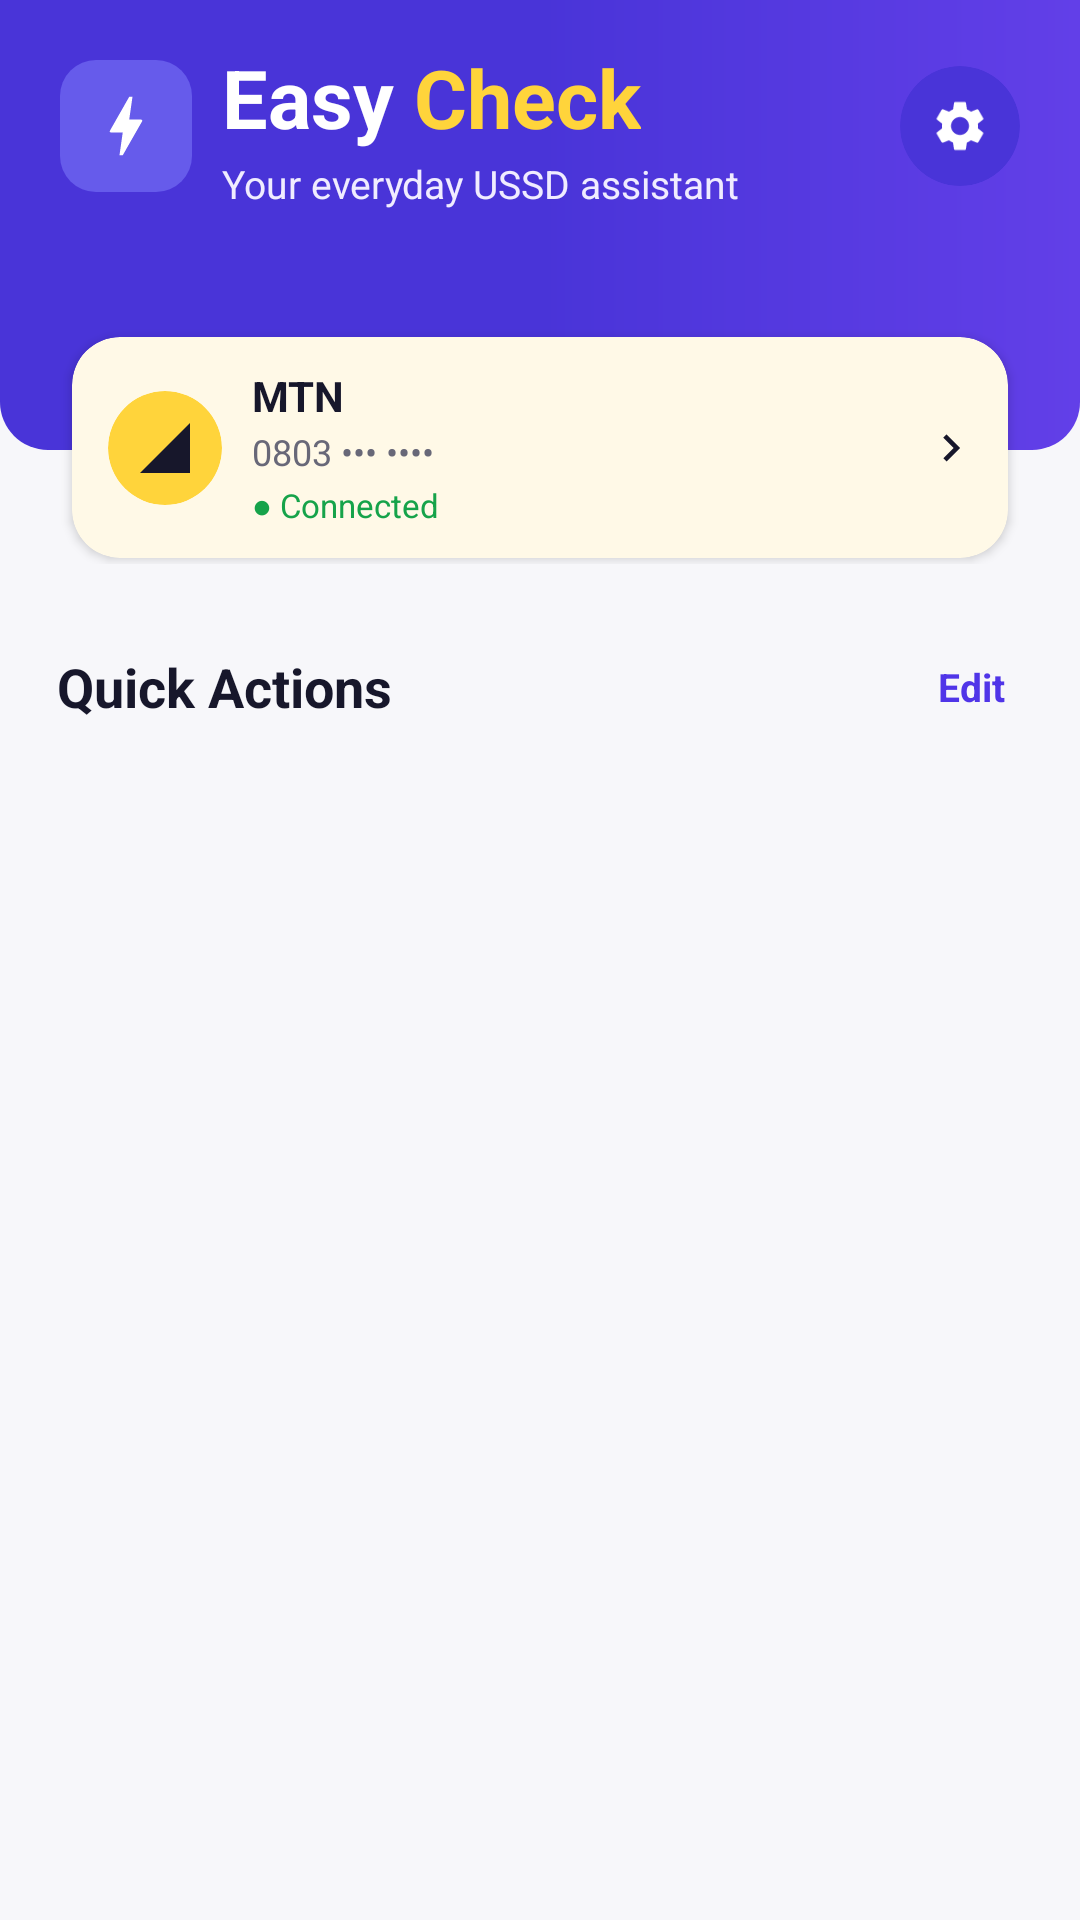

Screen size 1080px x 1920px. Icon name, then its center in pixels as (x,y):
Network: (165,448)
Open: (951,448)
Settings: (960,126)
